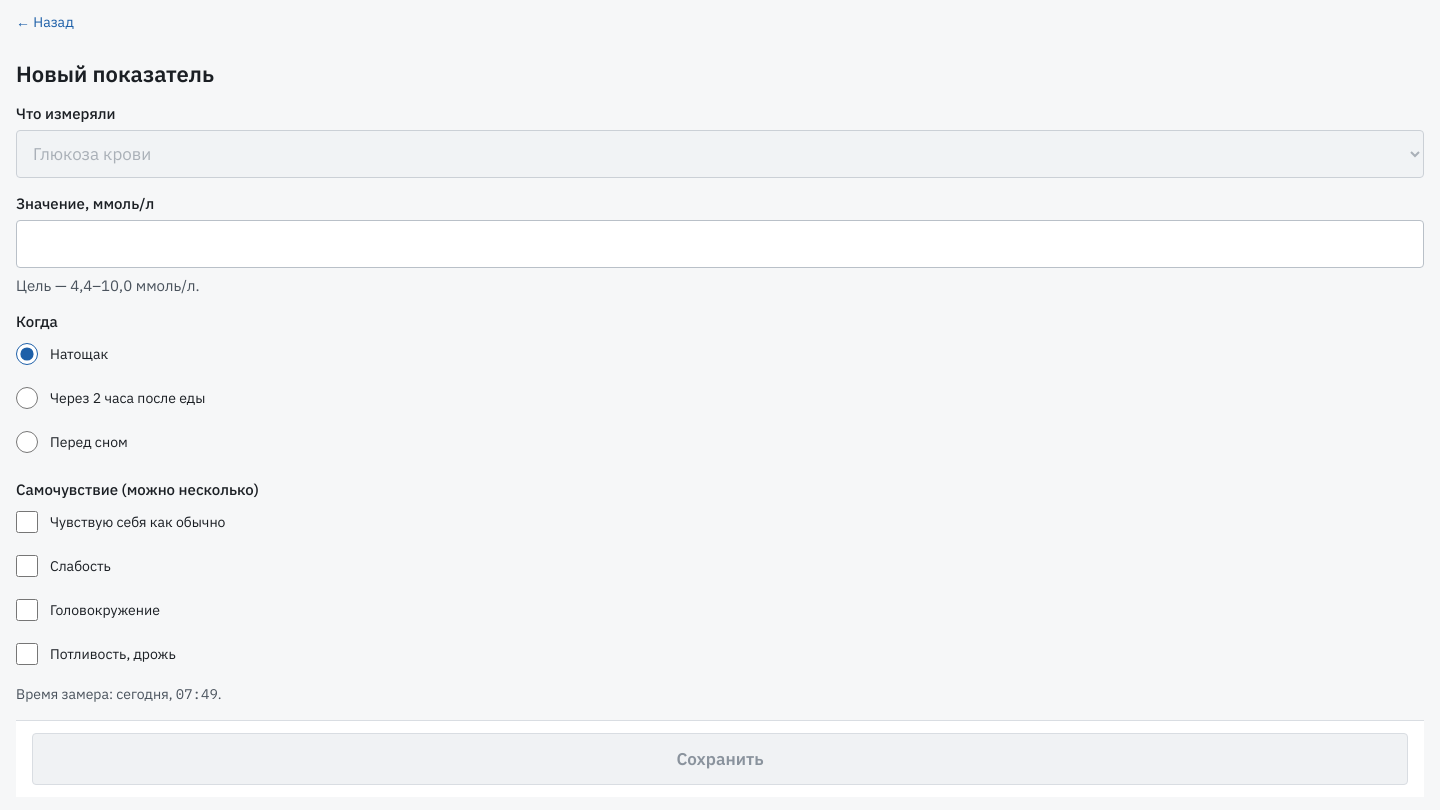
Test: PatientEntry › не даёт сохранить невозможное значение
Step 1. Type "50" into the field labelled "Значение, ммоль/л" → (720, 244), box [16,220,1424,268]
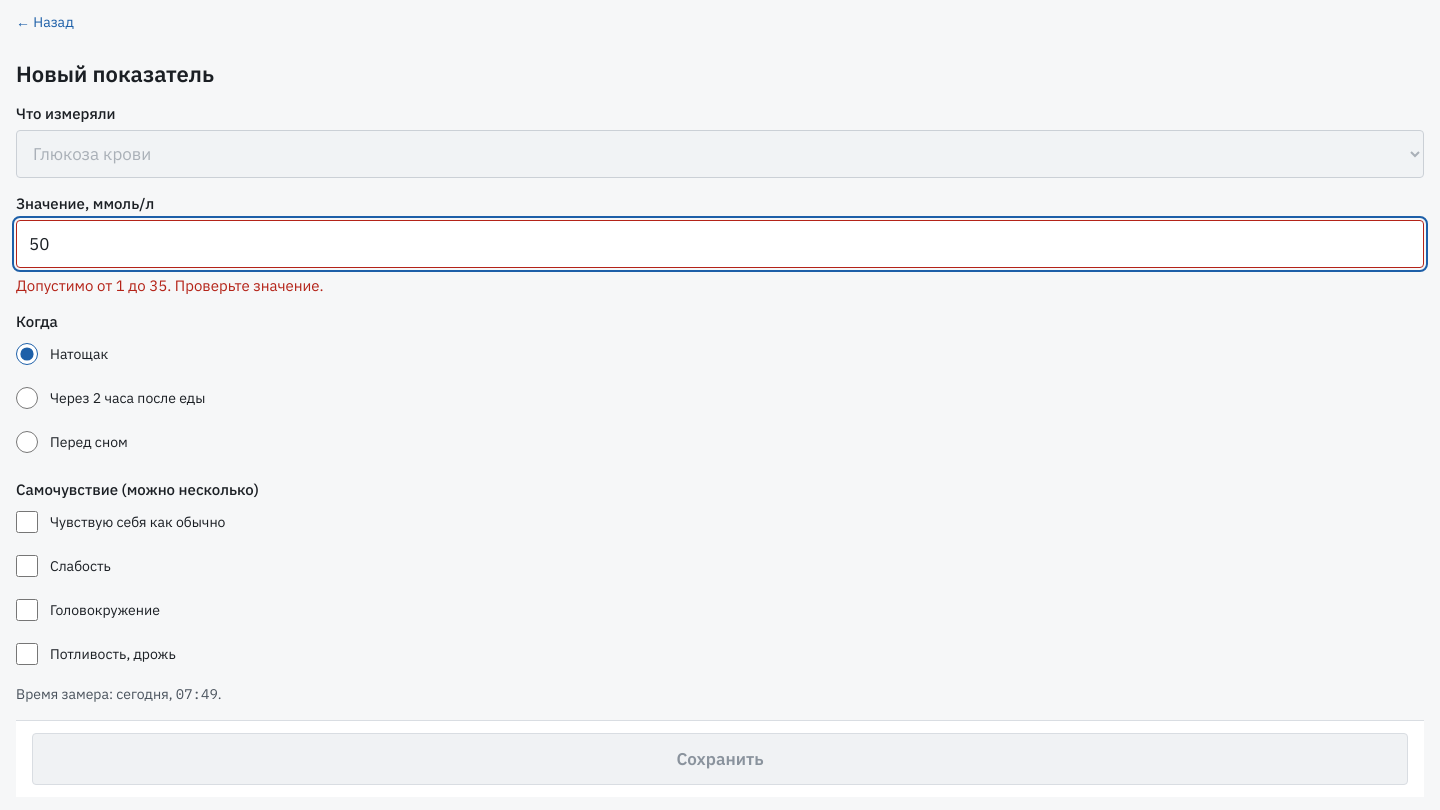
expect the button "Сохранить" is disabled: met, box [32,733,1408,785]
expect the message shows "Допустимо от 1 до 35": met, box [16,276,324,295]
